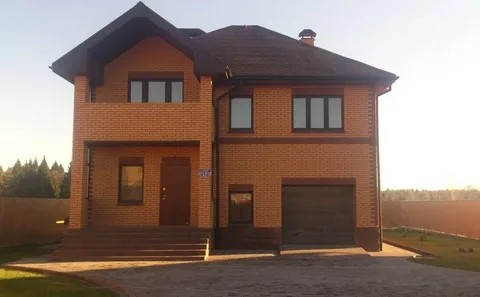private_hause: (73, 26, 378, 248)
